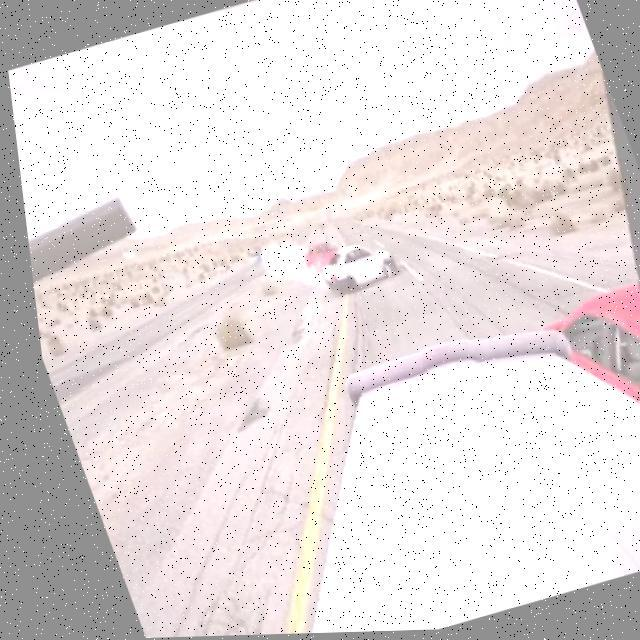Car Accident Detector - v4 Generation1 Exported: (278, 206, 409, 322)
